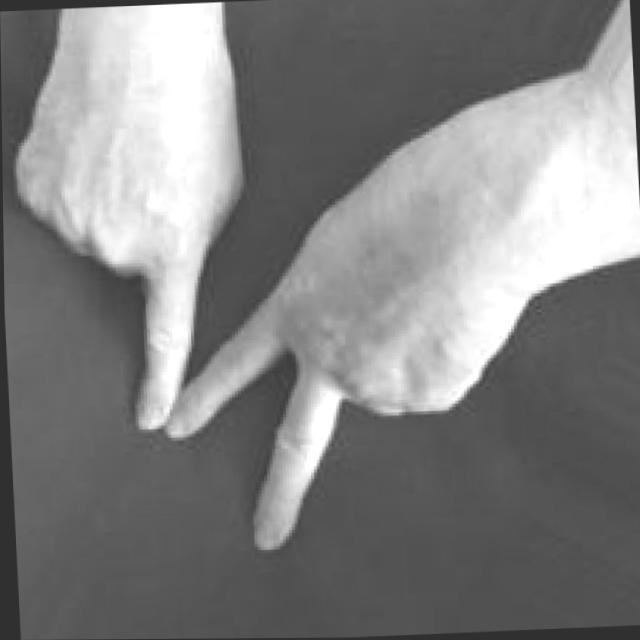N: (5, 7, 561, 570)
